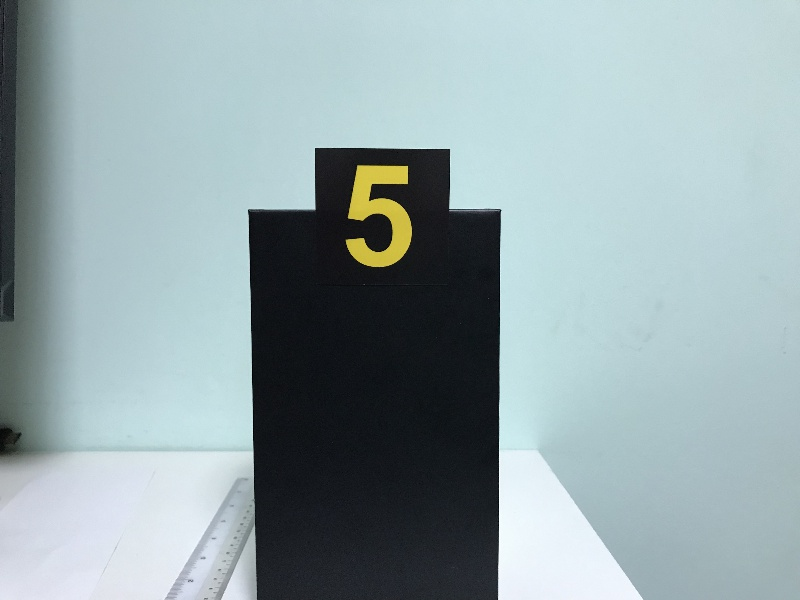Five-10: (318, 151, 447, 284)
